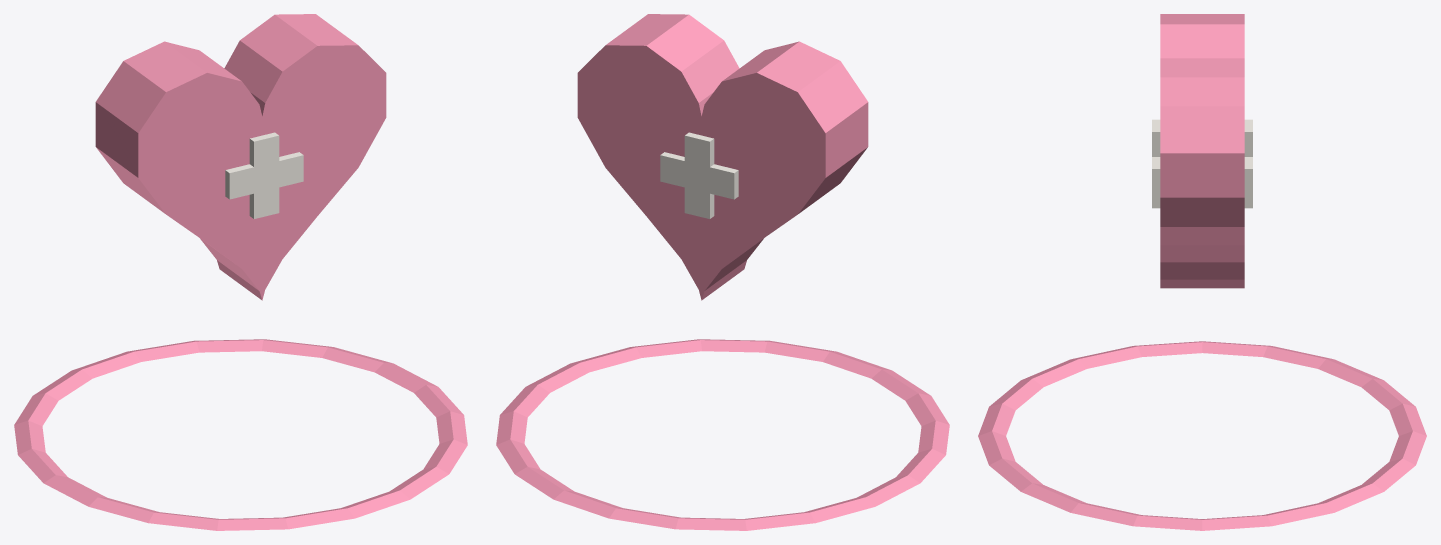
Rendered from pu_heart.glb.
3 renders of one model, left to right at view 1: azimuth 30°, elevation 25°; view 2: azimuth 150°, elevation 25°; view 3: azimuth 270°, elevation 25°, orthographic.
Visible parts, largest first — view 1: pu_heart; view 2: pu_heart; view 3: pu_heart.
Boxes of the visible parts, x1,y1,x2,y2 form: pu_heart: (14,14,467,530); pu_heart: (496,14,949,530); pu_heart: (978,14,1426,530).
Size of the model in its own units: 1.6 by 1.53 by 1.6.
